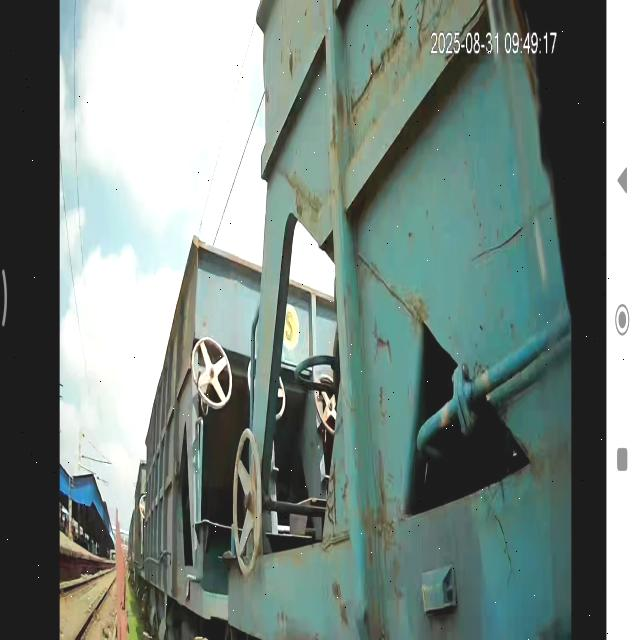joint: (157, 0, 391, 640)
